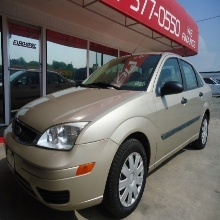no damage: (3, 51, 211, 215)
